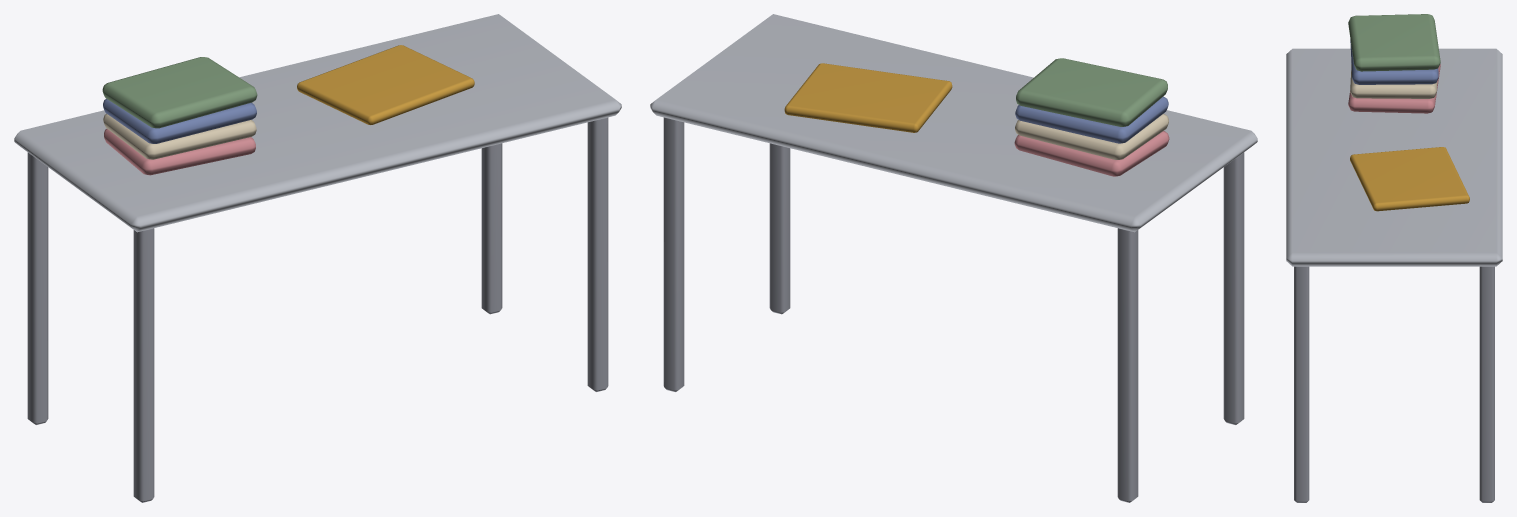
File: folding_table.glb
The picture shows the model from 3 angles, left to right: view 1: azimuth 30°, elevation 25°; view 2: azimuth 150°, elevation 25°; view 3: azimuth 270°, elevation 25°; orthographic projection. The views are drawn at different scales.
Parts seen in each view (by area): view 1: folding_table; view 2: folding_table; view 3: folding_table.
Boxes of the visible parts, box(x1,y1,x2,y2) form: folding_table: box(14, 14, 621, 502); folding_table: box(650, 14, 1257, 502); folding_table: box(1286, 14, 1502, 502).
Bounding box in the file's own units: 1.6 × 1.11 × 0.7.
